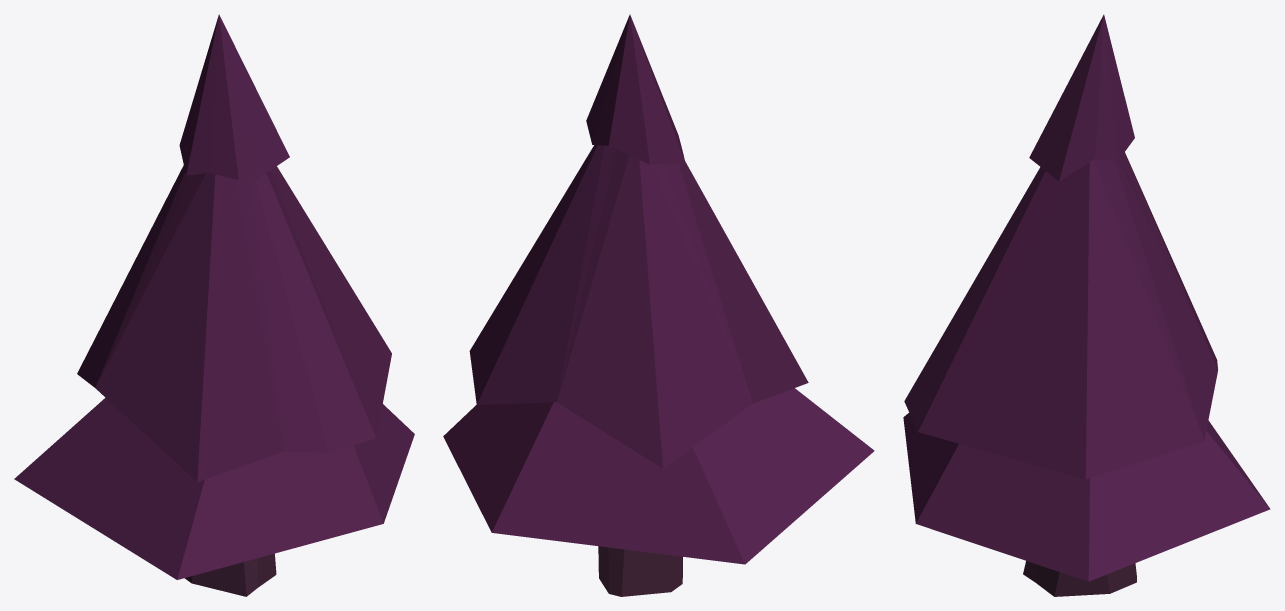
Rendered from Tree2Whole.fbx.
The picture shows the model from 3 angles, left to right: view 1: azimuth 30°, elevation 25°; view 2: azimuth 150°, elevation 25°; view 3: azimuth 270°, elevation 25°; orthographic projection. The views are drawn at different scales.
Visible parts, largest first — view 1: Cube; view 2: Cube; view 3: Cube.
Part boxes in pixels (x1,y1,x2,y2): Cube: (14, 14, 414, 596); Cube: (443, 14, 874, 596); Cube: (903, 14, 1270, 596).
Bounding box in the file's own units: 398 × 605 × 356.
